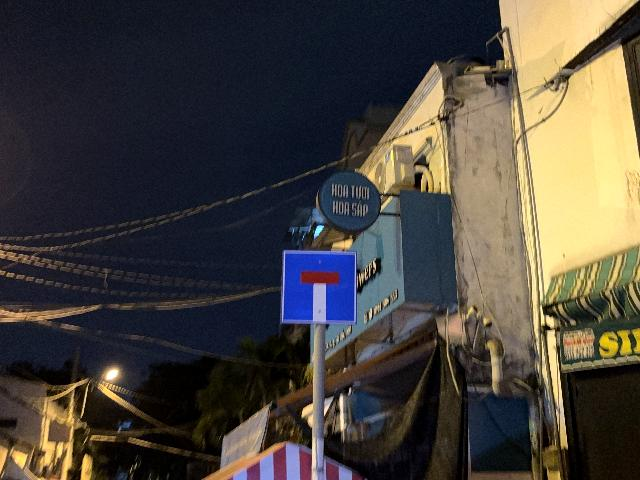duong-cut: (281, 248, 357, 325)
